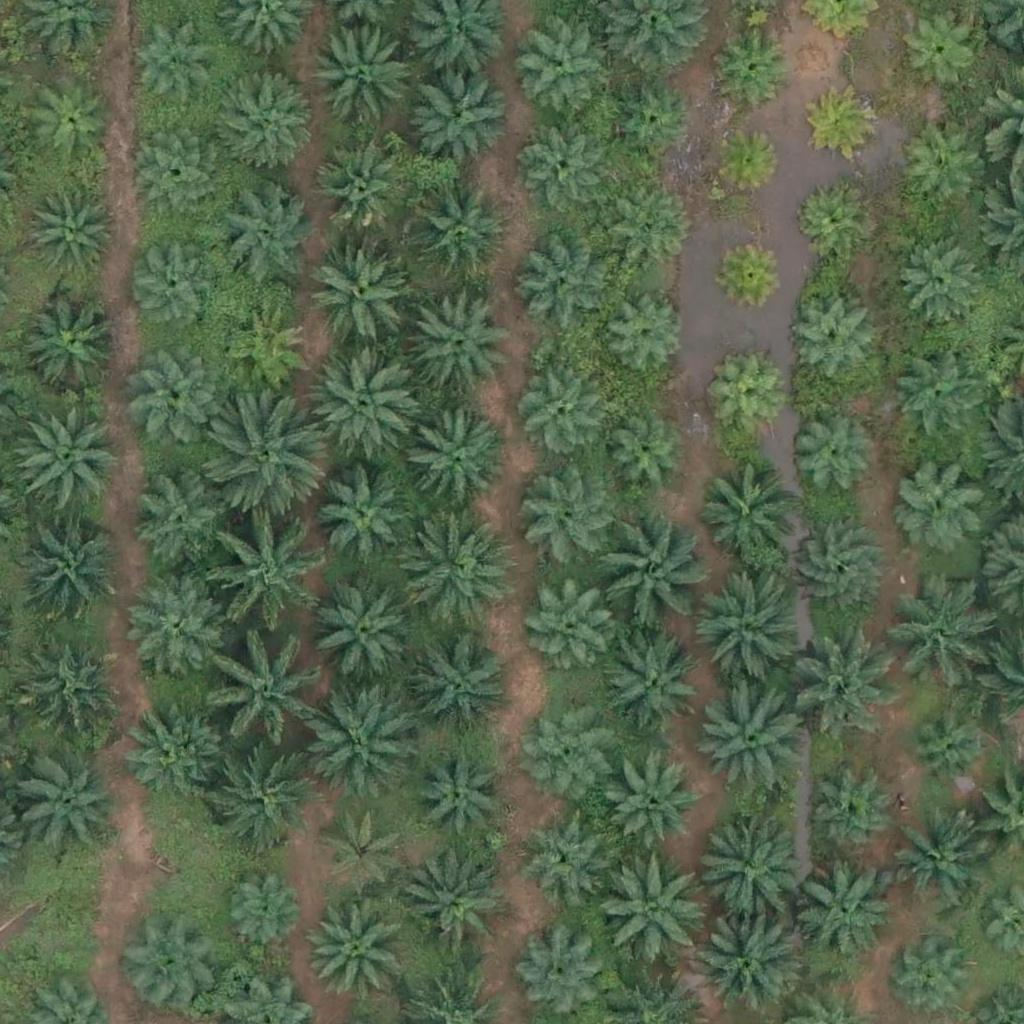Kelapa_Sawit: (689, 679, 802, 793), (694, 906, 807, 1019), (686, 810, 799, 923), (398, 409, 511, 522), (399, 518, 512, 631), (309, 575, 422, 688), (208, 401, 321, 514), (692, 575, 804, 689), (594, 852, 706, 966), (786, 620, 898, 733), (590, 514, 702, 627), (310, 353, 422, 466), (307, 691, 419, 804), (3, 400, 115, 513), (210, 526, 322, 639), (210, 644, 322, 757), (205, 742, 317, 855), (883, 815, 983, 916), (883, 587, 983, 688), (793, 863, 893, 964), (696, 463, 796, 564), (599, 631, 699, 732), (520, 468, 620, 569), (409, 288, 509, 389), (403, 861, 503, 962), (316, 468, 416, 569), (307, 901, 407, 1002), (118, 918, 218, 1019), (133, 578, 233, 679), (120, 697, 220, 798), (16, 642, 116, 743), (410, 63, 510, 164), (310, 236, 410, 337), (409, 180, 509, 281), (516, 232, 616, 333), (312, 28, 412, 129), (216, 65, 316, 166), (890, 453, 990, 553), (788, 521, 888, 621), (137, 471, 237, 571), (21, 295, 121, 395), (18, 524, 118, 624), (18, 756, 118, 856), (217, 183, 317, 283), (410, 636, 509, 737), (125, 239, 213, 328), (904, 704, 992, 792), (785, 295, 873, 383), (611, 764, 699, 852), (513, 932, 601, 1020), (511, 367, 599, 455), (607, 75, 695, 163), (607, 193, 695, 281), (893, 3, 981, 91), (898, 126, 986, 214), (517, 31, 605, 119), (518, 123, 606, 211), (128, 24, 216, 112), (132, 128, 220, 216), (34, 191, 122, 279), (890, 352, 977, 441), (322, 807, 409, 896), (787, 411, 874, 499), (809, 773, 896, 861), (603, 291, 690, 379), (600, 415, 687, 503), (514, 810, 601, 898), (523, 698, 610, 786), (526, 583, 613, 671), (417, 749, 504, 837), (221, 870, 308, 958), (132, 344, 219, 432), (897, 235, 984, 323), (315, 145, 402, 233), (28, 78, 115, 166), (223, 305, 310, 393), (792, 181, 867, 257), (709, 361, 784, 437), (714, 234, 789, 310), (807, 85, 882, 161), (717, 27, 792, 102), (895, 945, 970, 1020), (709, 124, 784, 199)
